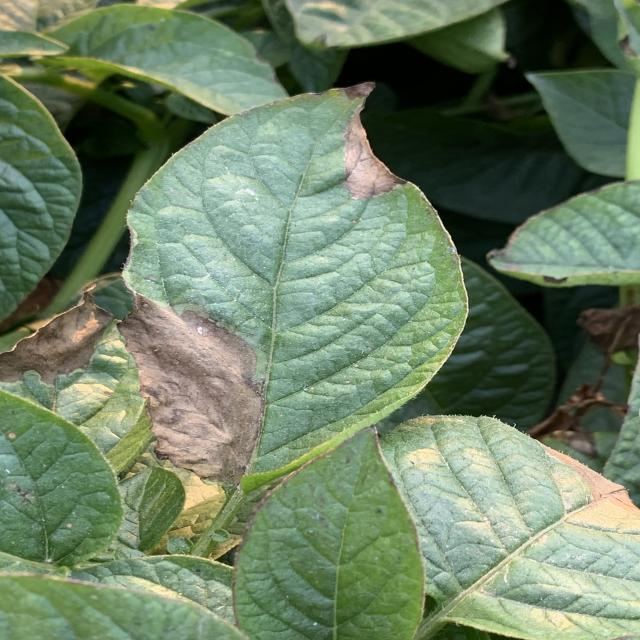lateblight: (118, 294, 263, 484), (0, 292, 113, 384), (542, 445, 640, 534), (343, 109, 407, 200), (343, 82, 375, 100)
